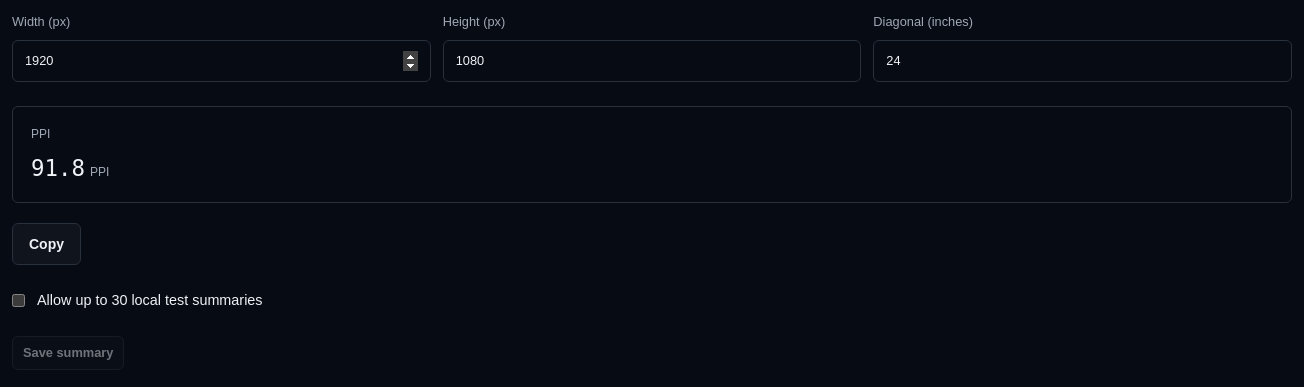
Test: enables explicit saving immediately after local opt-in
The width and height of the screenshot is (1304, 387).
Expected: the button "Save summary" is disabled, [12,336,124,370]
Click the checkbox at (18, 301), box [12,294,25,307]
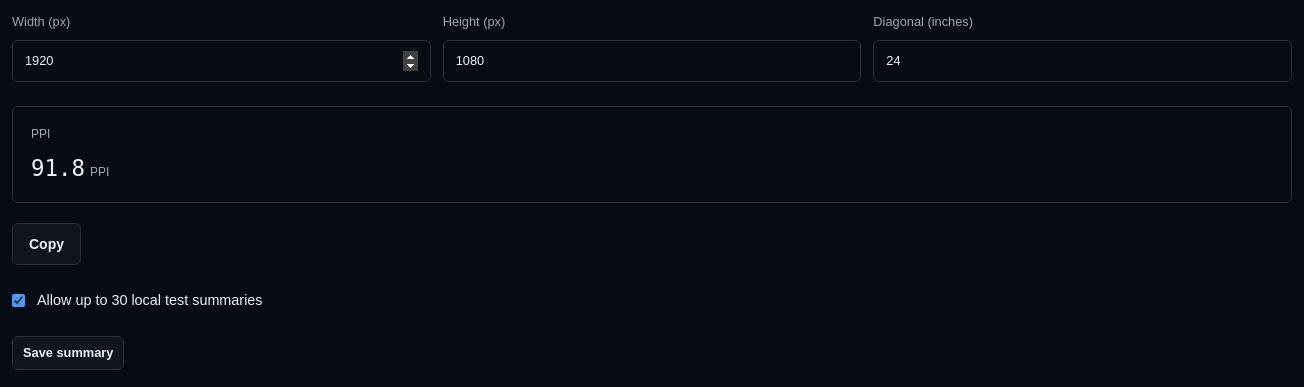
Now the button "Save summary" is enabled
Click the button "Save summary" at (68, 354), box [12,336,124,370]
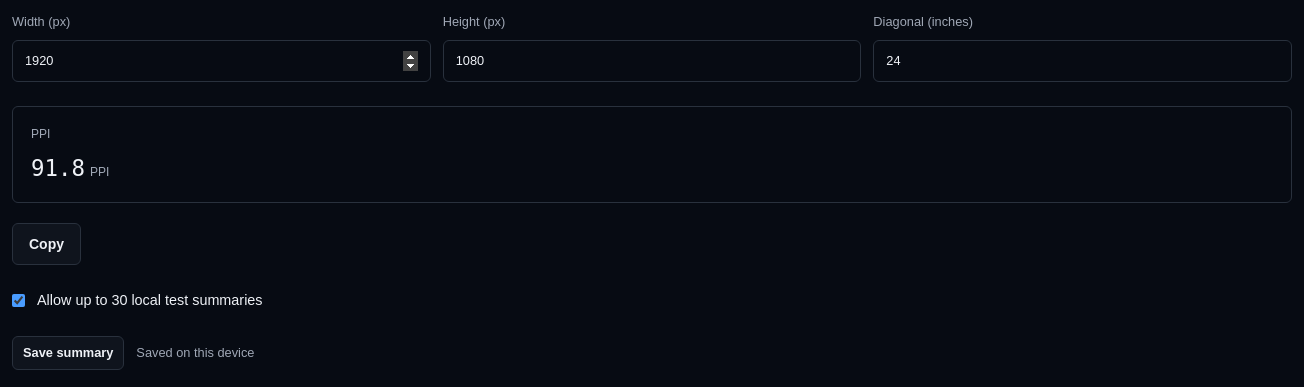
Now the text "Saved on this device" is shown, box [136,345,254,360]
